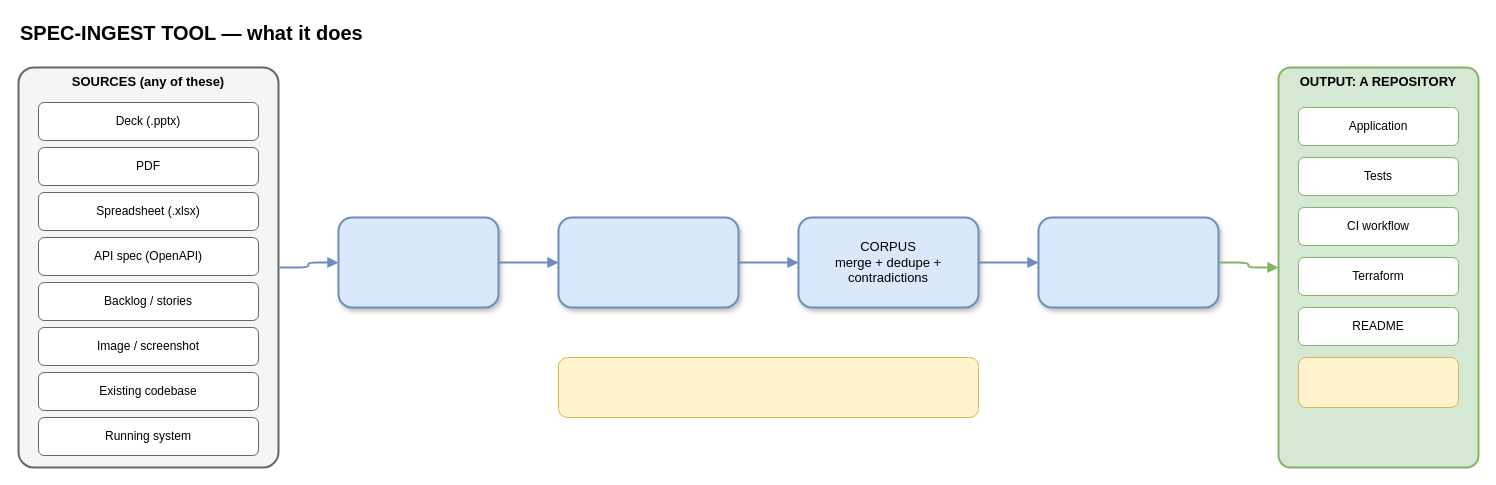
The diagram is 1496 pixels wide and 485 high, and some of its shapes have lost their labels. The centre of each missing label's shape, as x and y in pixels:
"Audit log (no extracted content)" goes at [1378,382].
"CANDIDATE { kind, text, ref, because }" goes at [649,263].
"Guards: untrusted input, no secrets shipped, no model/SDK/API key in output" goes at [768,387].
"PROFILE / ARCHITECTURE inferred, not authored" goes at [1129,263].
"READERS claim by content, never by extension" goes at [419,263].
